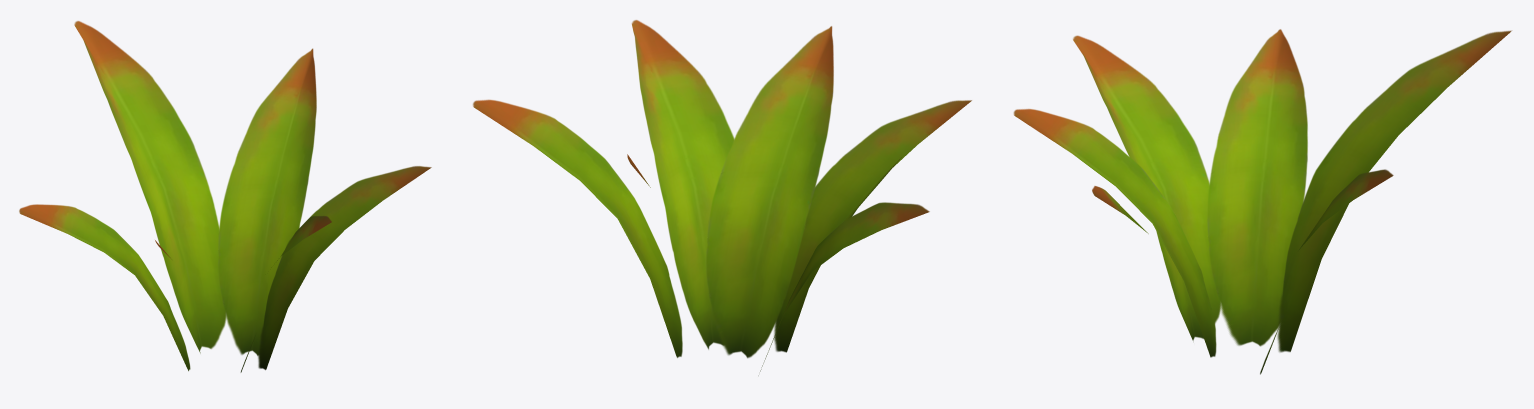
Rendered from plant-transformed.glb.
The picture shows the model from 3 angles, left to right: view 1: azimuth 30°, elevation 25°; view 2: azimuth 150°, elevation 25°; view 3: azimuth 270°, elevation 25°; orthographic projection. The views are drawn at different scales.
Visible parts, largest first — view 1: Plant_1; view 2: Plant_1; view 3: Plant_1.
Boxes of the visible parts, bbox=[...] form: Plant_1: bbox=[19, 21, 431, 372]; Plant_1: bbox=[473, 20, 971, 375]; Plant_1: bbox=[1013, 29, 1511, 374].
Size of the model in its own units: 1.27 by 1.01 by 1.39.
Materials: 1 (1 with a texture image).
